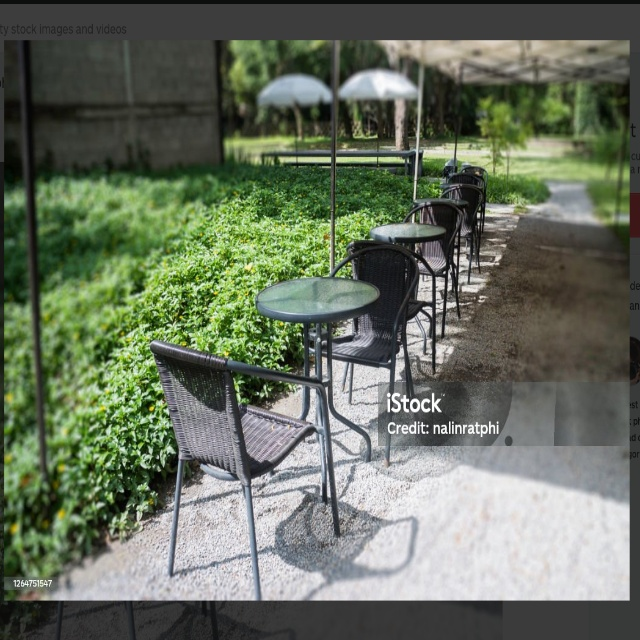obstacle: (150, 337, 339, 578), (259, 272, 380, 465), (323, 243, 413, 423), (375, 223, 442, 372), (417, 201, 467, 324), (254, 145, 423, 179)
